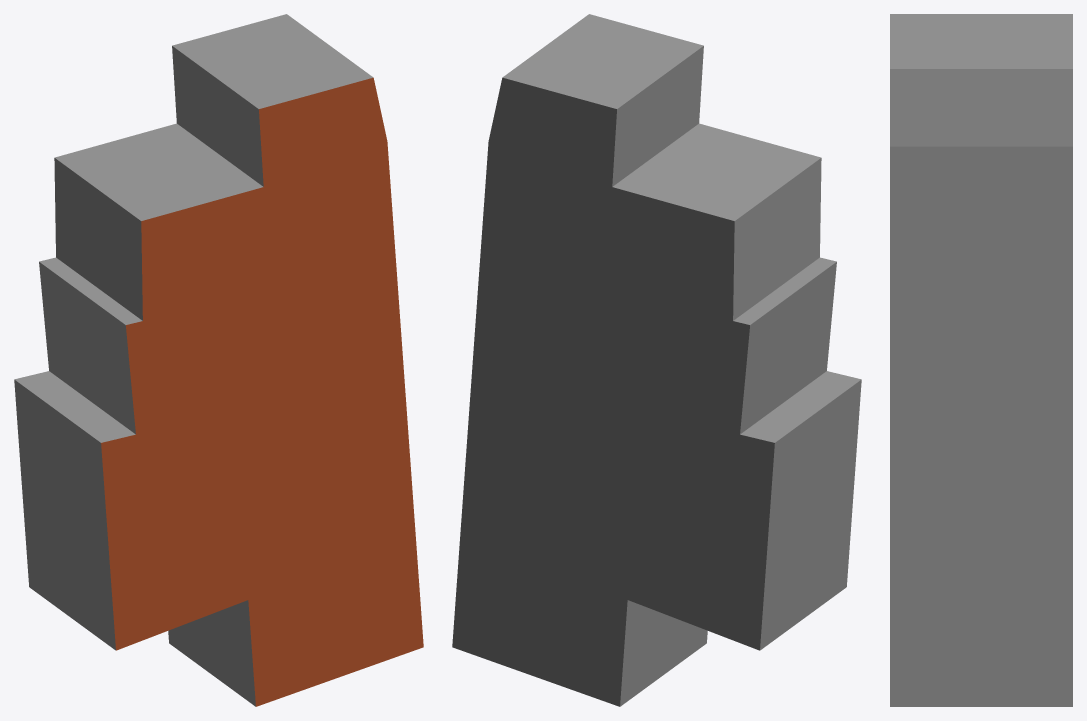
Rendered from construction_3301_assumed_A_Casa_h6m.obj.
3 renders of one model, left to right at view 1: azimuth 30°, elevation 25°; view 2: azimuth 150°, elevation 25°; view 3: azimuth 270°, elevation 25°, orthographic. The views are drawn at different scales.
Parts seen in each view (by area): view 1: construction_3301_assumed_A_Casa; view 2: construction_3301_assumed_A_Casa; view 3: construction_3301_assumed_A_Casa.
Part boxes in pixels (bbox=[...]): construction_3301_assumed_A_Casa: bbox=[14, 14, 423, 706]; construction_3301_assumed_A_Casa: bbox=[452, 14, 861, 706]; construction_3301_assumed_A_Casa: bbox=[890, 14, 1072, 706].
Size of the model in its own units: 12.87 by 22.89 by 6.
